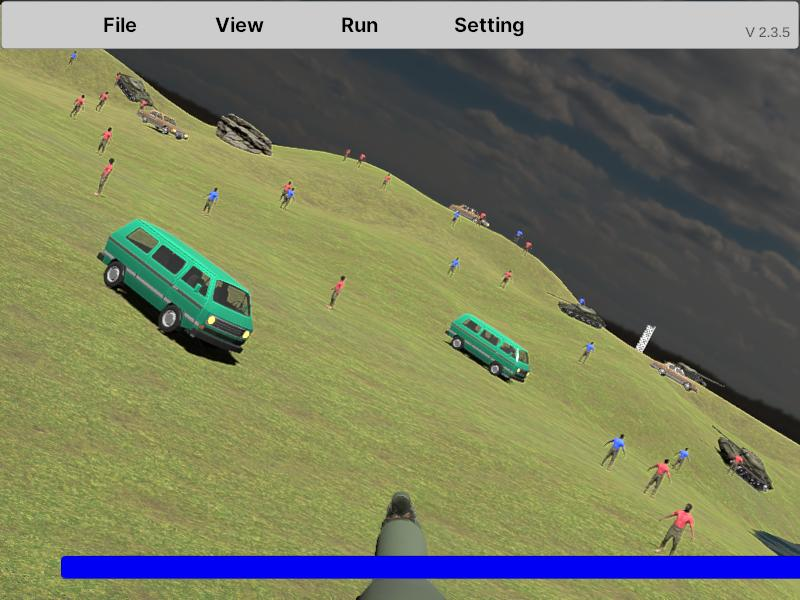Human: (656, 504, 695, 559)
Tank: (712, 424, 773, 493), (115, 71, 154, 103)
car: (97, 221, 253, 355), (446, 313, 529, 383), (138, 106, 186, 141), (654, 362, 700, 393), (448, 203, 489, 228)
